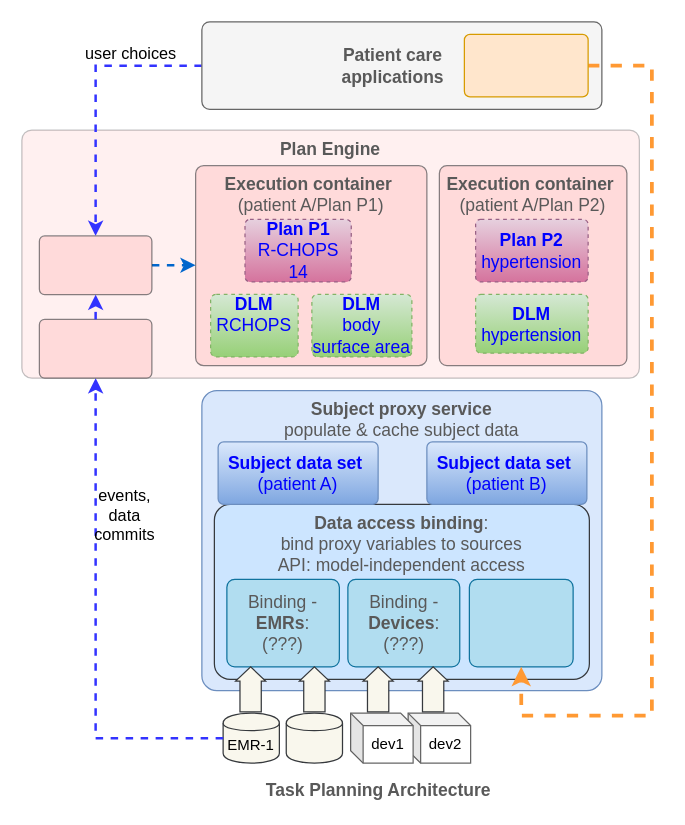
The diagram is 685 pixels wide and 825 high, and some of its shapes have lost their labels. Each missing label, with the centre of its shape:
Binding - Users : (???): [520,622]
EMR-2: [313,737]
Event Handler: [95,348]
Missing data requester: [525,65]
Plan Selector: [95,265]
